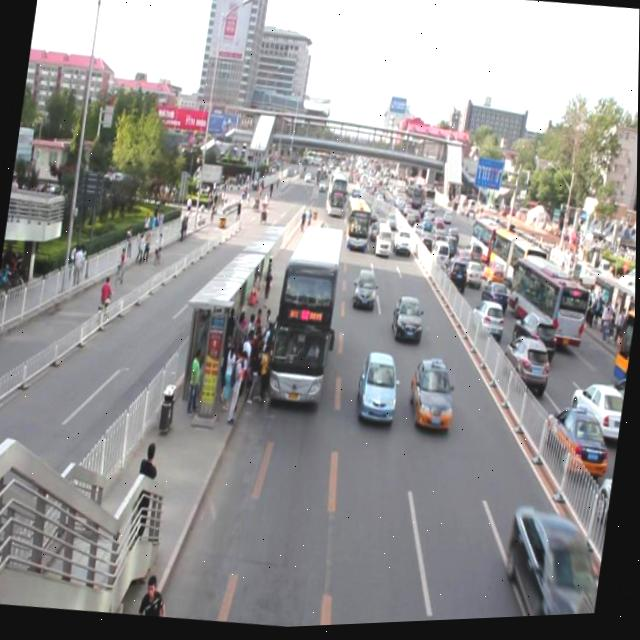car: (495, 503, 609, 622), (405, 357, 458, 436), (354, 350, 400, 432), (388, 296, 426, 351), (352, 266, 377, 313), (393, 232, 412, 261), (366, 207, 379, 229), (369, 226, 382, 246), (385, 213, 397, 231), (349, 189, 360, 205)
truck: (374, 227, 391, 257)
van: (267, 225, 343, 408), (342, 200, 369, 247), (325, 177, 347, 222)
